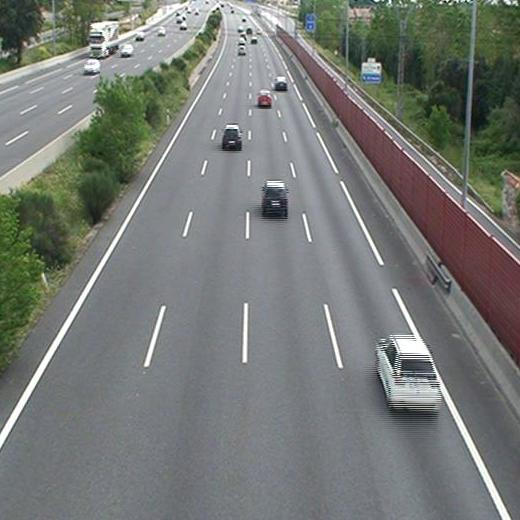car: (376, 337, 440, 408), (262, 182, 287, 210), (222, 127, 242, 147), (258, 91, 271, 106), (275, 77, 287, 90), (238, 45, 245, 54)
